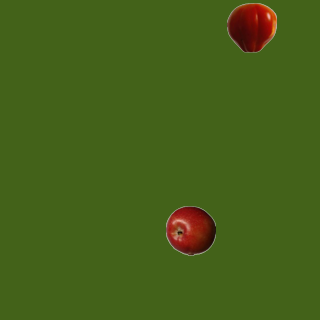Apple Braeburn: (165, 205, 215, 255)
Tomato 1: (226, 2, 276, 52)
